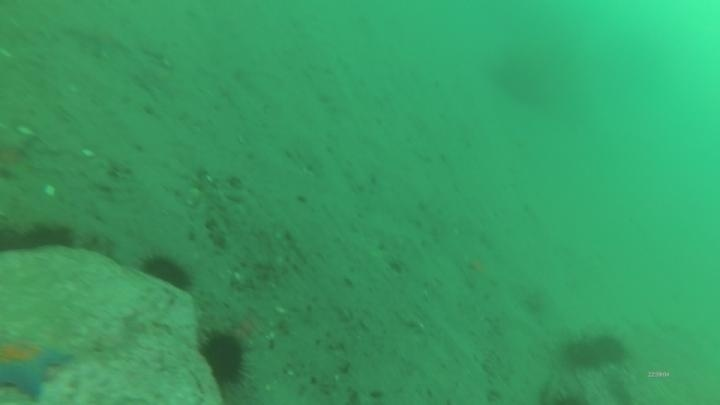echinus: (490, 52, 550, 107), (196, 329, 251, 388), (138, 251, 195, 294), (25, 220, 76, 254), (561, 334, 605, 371), (589, 331, 630, 368)
starfish: (1, 332, 75, 403), (64, 19, 132, 62), (229, 315, 267, 351)
